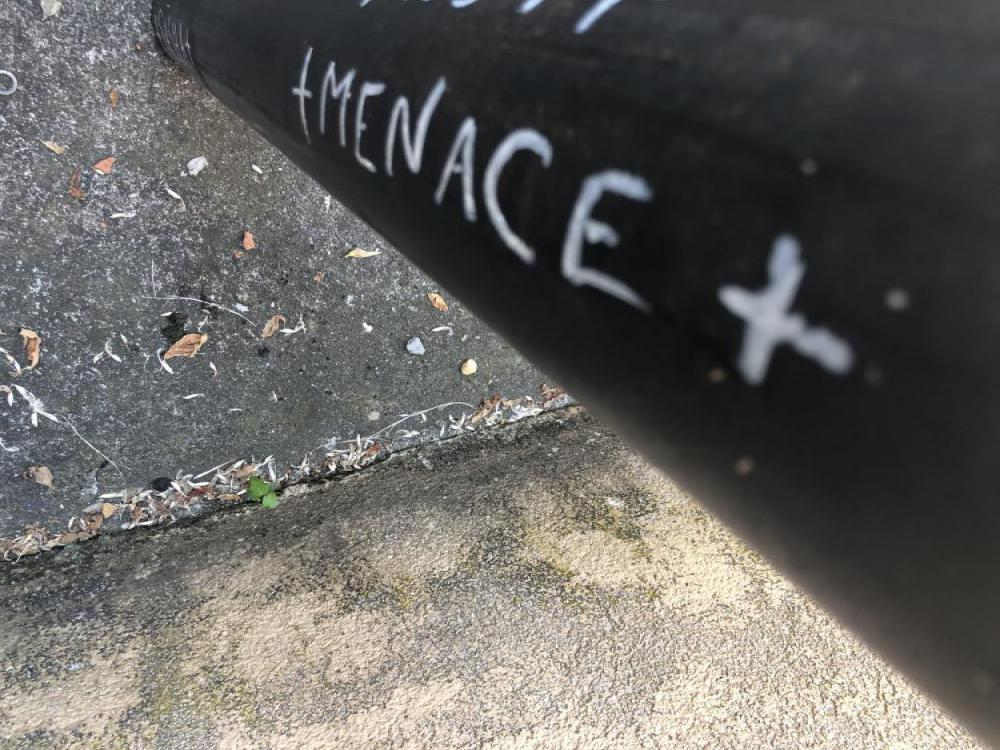+: (717, 235, 851, 391), (289, 48, 318, 141)
A: (432, 120, 477, 222)
C: (483, 127, 552, 267)
E: (561, 171, 653, 313), (355, 81, 385, 176)
M: (318, 63, 356, 146)
N: (382, 79, 446, 177)
